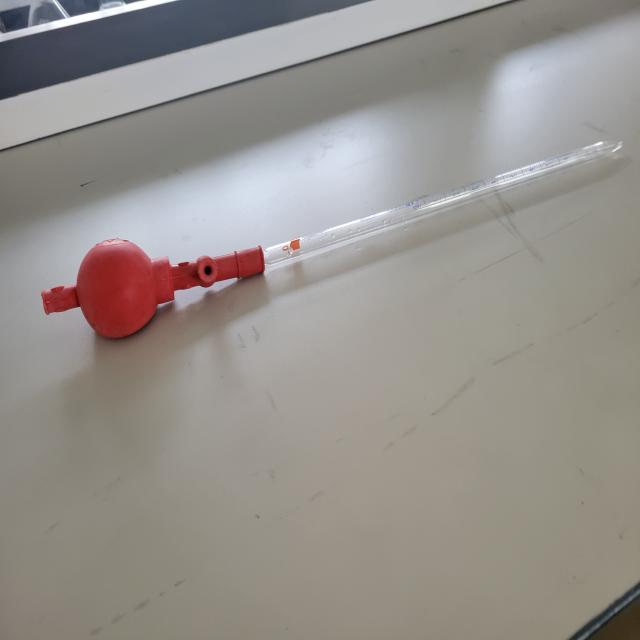Volumetric_Pipet: (29, 119, 640, 370)
